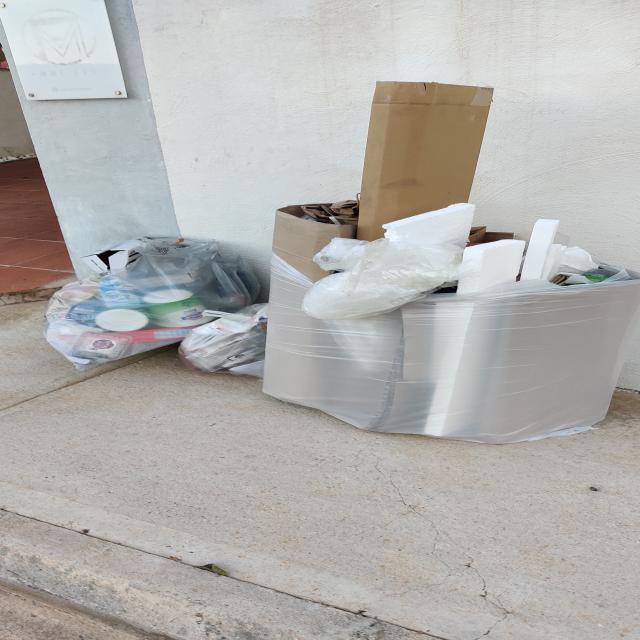Recyclable Material -Grey Bags-: (37, 82, 640, 449)
